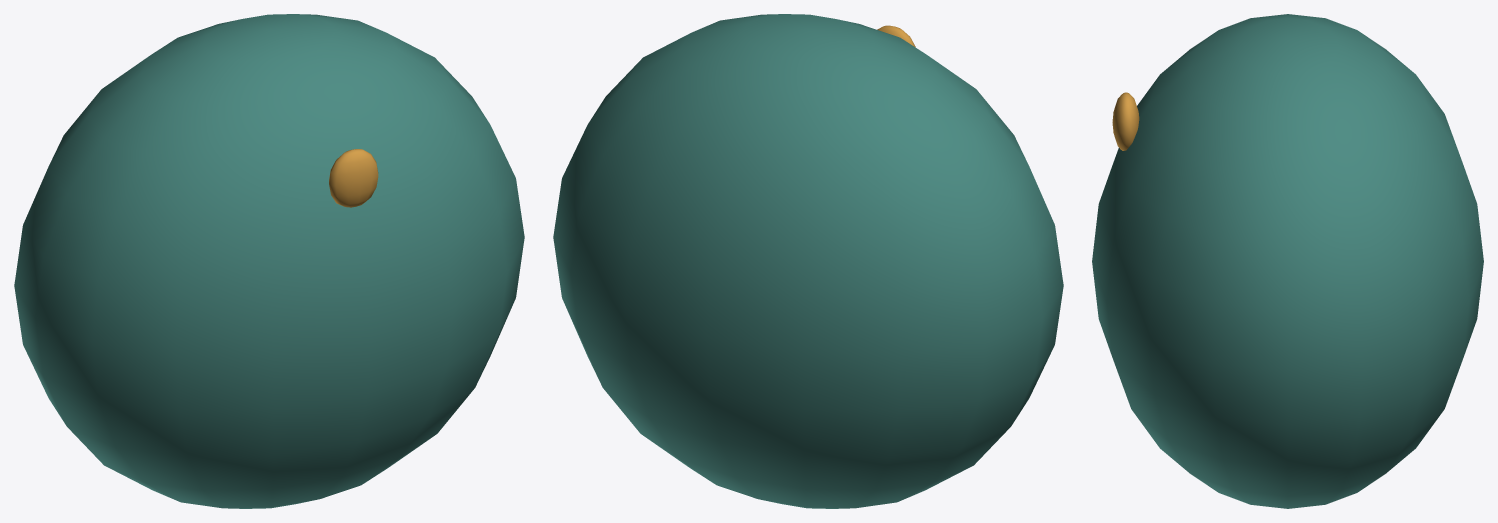
Rendered from armor_cloth.glb.
3 renders of one model, left to right at view 1: azimuth 30°, elevation 25°; view 2: azimuth 150°, elevation 25°; view 3: azimuth 270°, elevation 25°, orthographic. The views are drawn at different scales.
Visible parts, largest first — view 1: TorsoShell, Brooch; view 2: TorsoShell; view 3: TorsoShell, Brooch.
Boxes of the visible parts, x1,y1,x2,y2 form: TorsoShell: [14, 14, 524, 508]; Brooch: [329, 149, 378, 207]; TorsoShell: [553, 14, 1063, 508]; TorsoShell: [1092, 14, 1483, 508]; Brooch: [1112, 92, 1139, 150].
Bounding box in the file's own units: 0.61 × 0.576 × 0.46.
